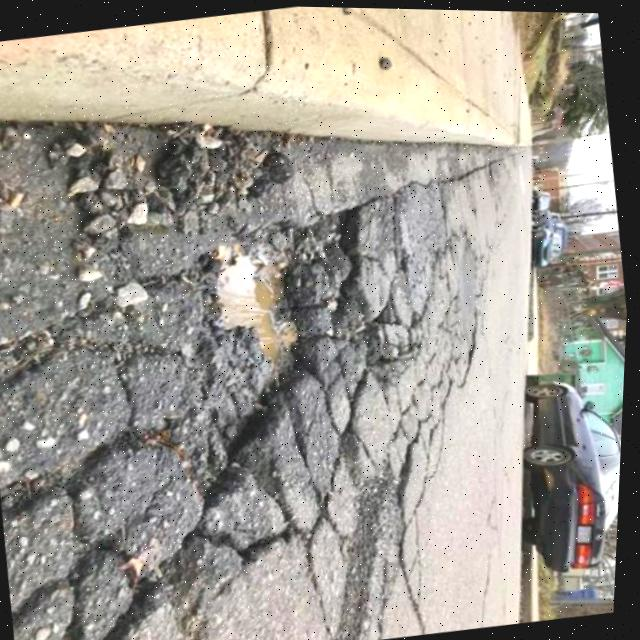Pothole: (111, 186, 416, 483)
